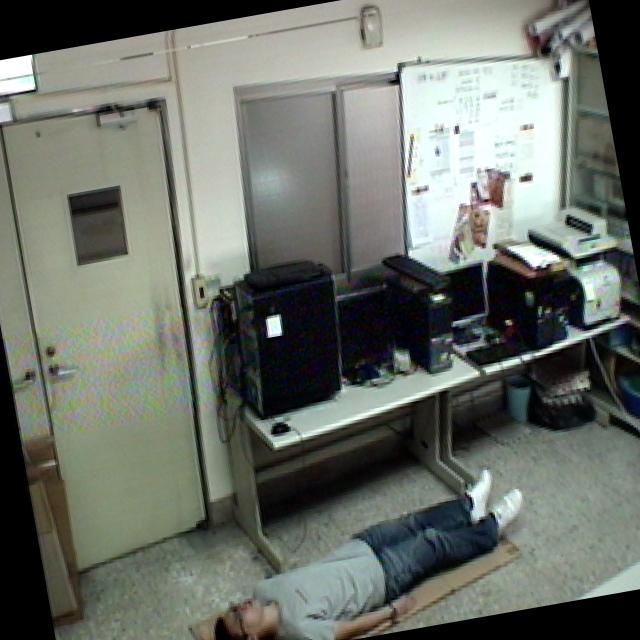lie: (190, 455, 545, 640)
